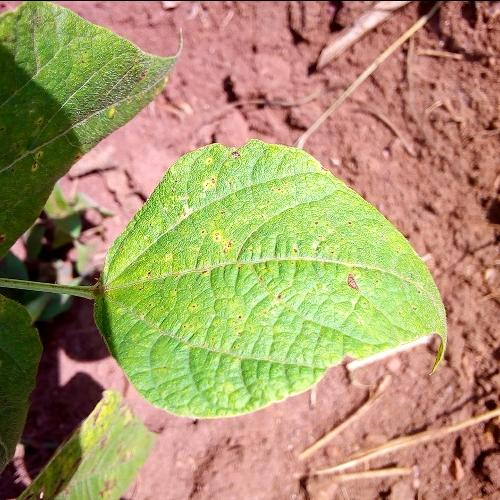hawar: (342, 268, 360, 295)
mozaik: (154, 190, 324, 362)
